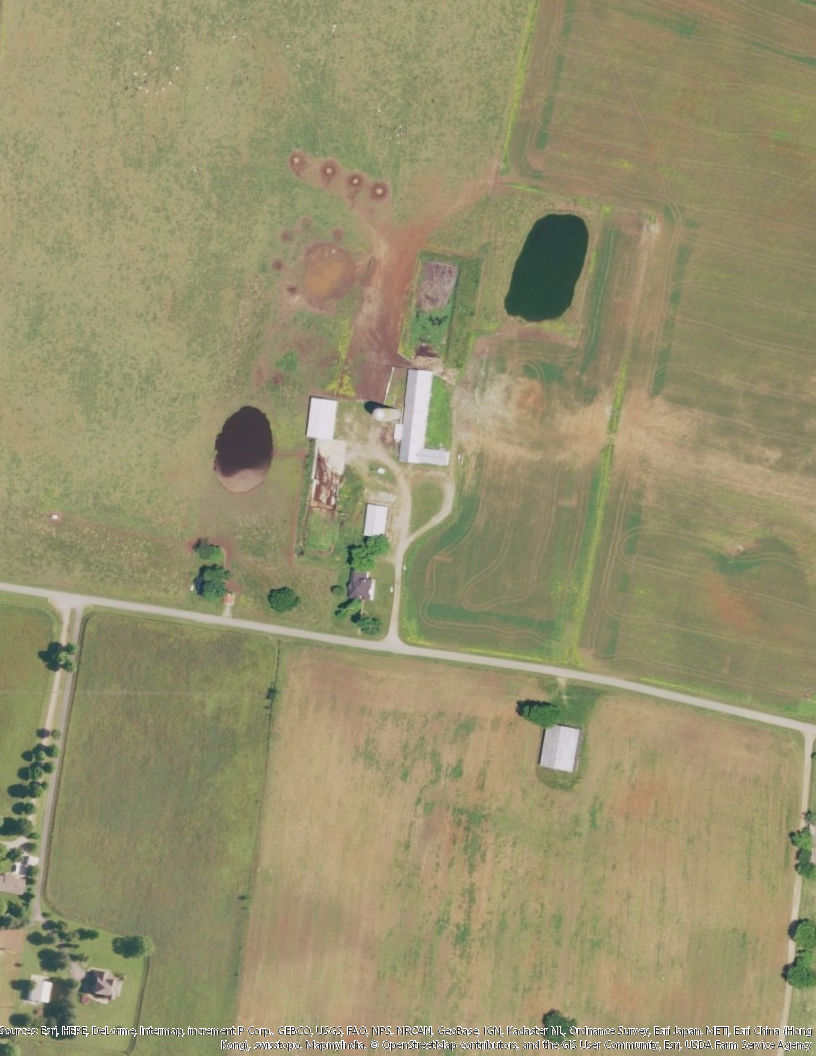cafo: (394, 360, 459, 465)
